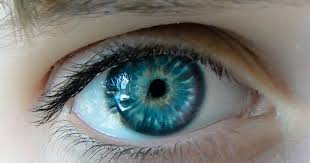pupil: (107, 54, 206, 136)
